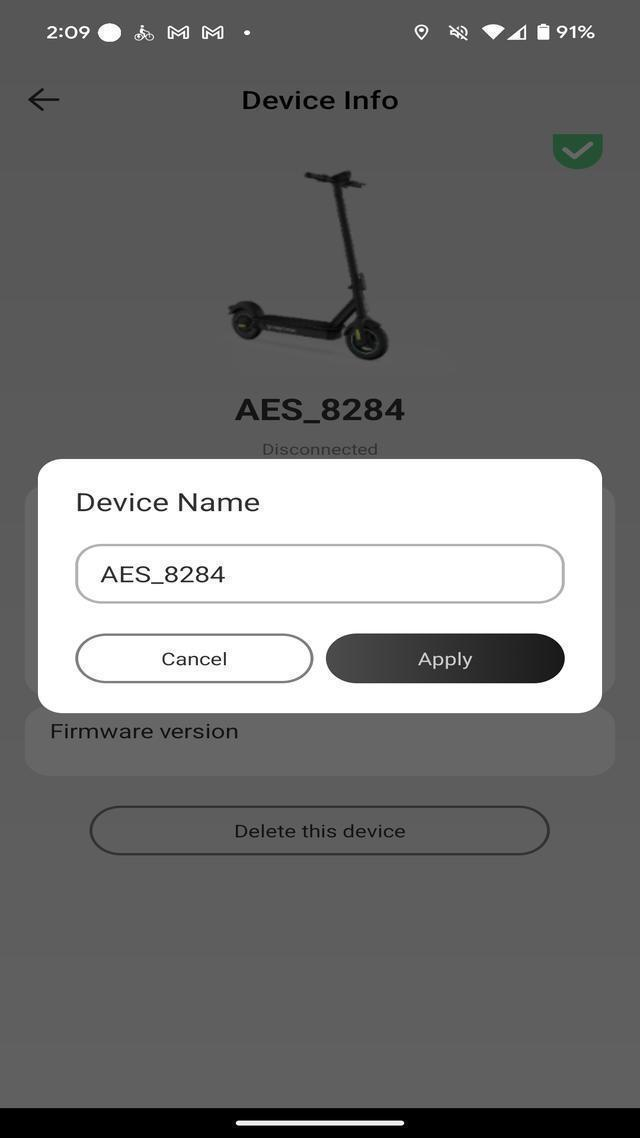Icon: (546, 129, 610, 172), (28, 87, 62, 121), (128, 20, 158, 46), (96, 18, 122, 44), (198, 21, 226, 44), (164, 22, 191, 45), (444, 22, 472, 44), (481, 20, 504, 42), (510, 21, 530, 42), (414, 24, 430, 46), (536, 22, 552, 44), (242, 24, 252, 42)
Image: (211, 161, 459, 368)
Text: (63, 484, 264, 521), (44, 716, 251, 750), (228, 391, 410, 427), (237, 83, 400, 120), (230, 816, 410, 843), (96, 556, 234, 590), (154, 644, 232, 672), (414, 648, 481, 673), (41, 20, 91, 42), (554, 21, 600, 42)
TextButton: (73, 542, 566, 604), (84, 803, 552, 856), (324, 632, 568, 684), (76, 632, 316, 684)
